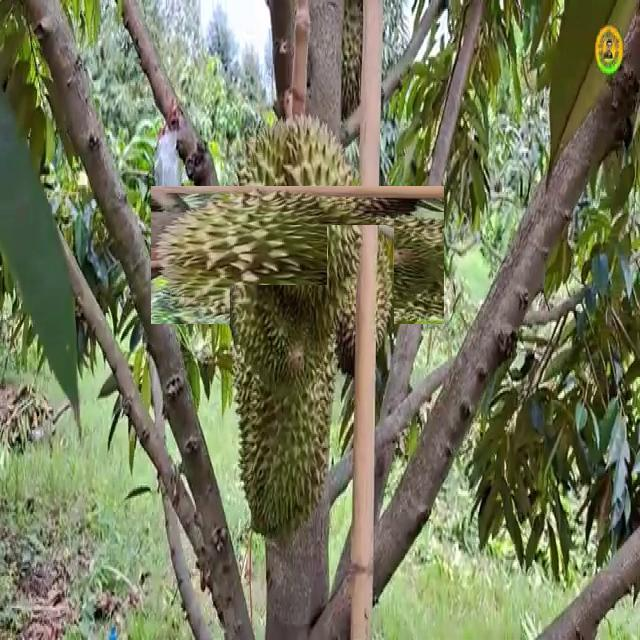durian: (190, 147, 406, 363), (230, 285, 333, 558), (327, 225, 394, 385)
